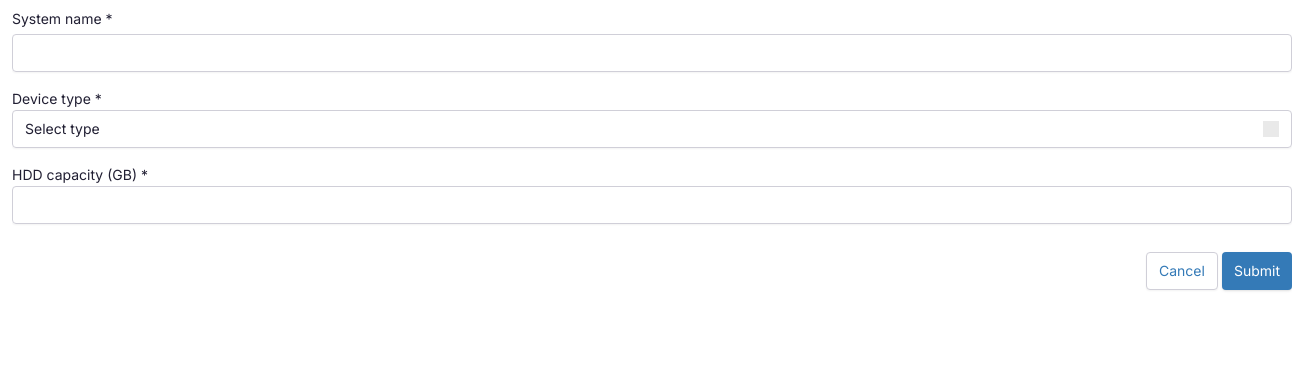
DeviceForm › shows validation errors for empty required fields
Click the button "Submit": (1257, 271) [1222,252,1292,290]
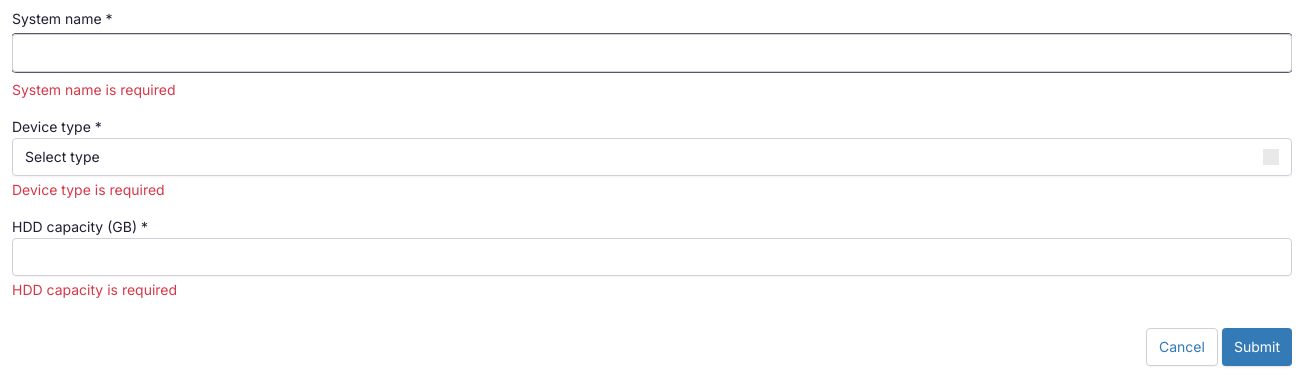
Expected: the text "System name is required" is shown, [12,81,176,98]
